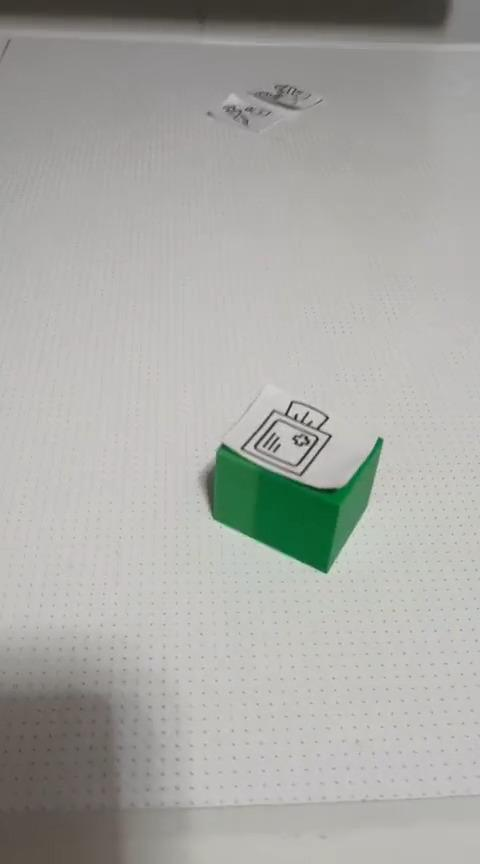Gauze: (209, 382, 383, 574)
